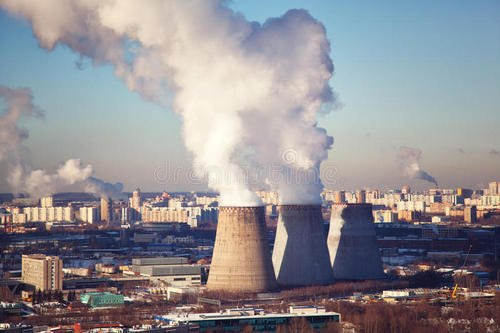smoke: (118, 12, 338, 200)
